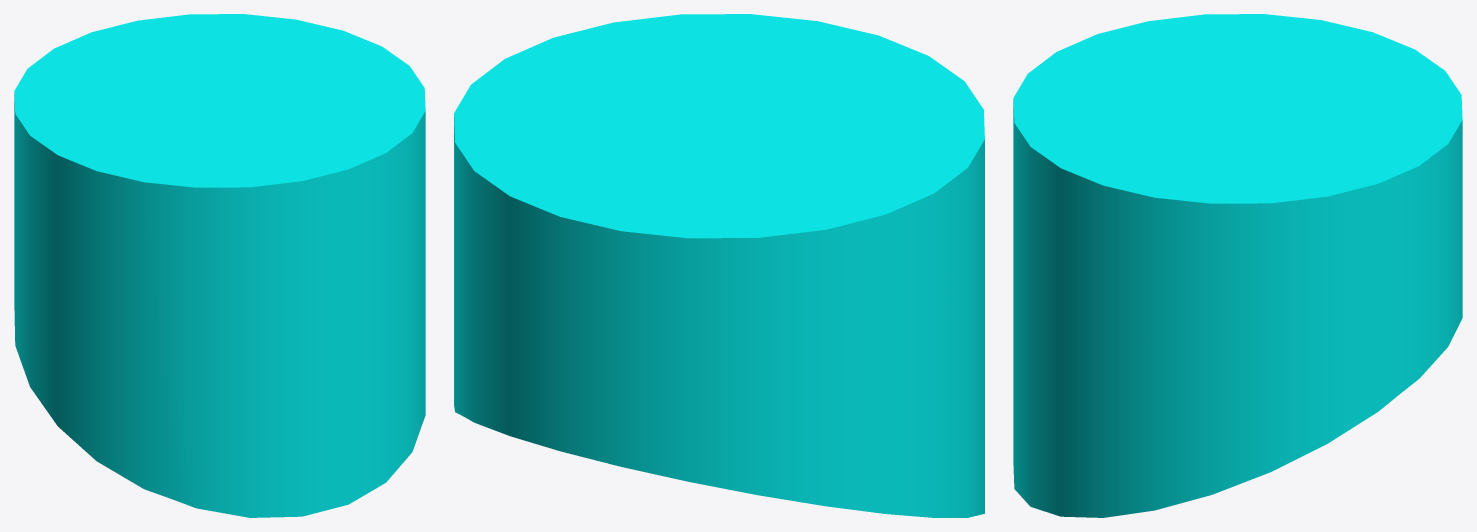
The model's file is figura02.fbx.
3 views of the same model, side by side, from view 1: azimuth 30°, elevation 25°; view 2: azimuth 150°, elevation 25°; view 3: azimuth 270°, elevation 25° (orthographic). The views are drawn at different scales.
Visible parts, largest first — view 1: Difference1; view 2: Difference1; view 3: Difference1.
Boxes of the visible parts, bbox=[...] form: Difference1: bbox=[14, 14, 425, 517]; Difference1: bbox=[454, 14, 984, 517]; Difference1: bbox=[1013, 14, 1462, 517].
Size of the model in its own units: 4284 by 3857 by 4284.
